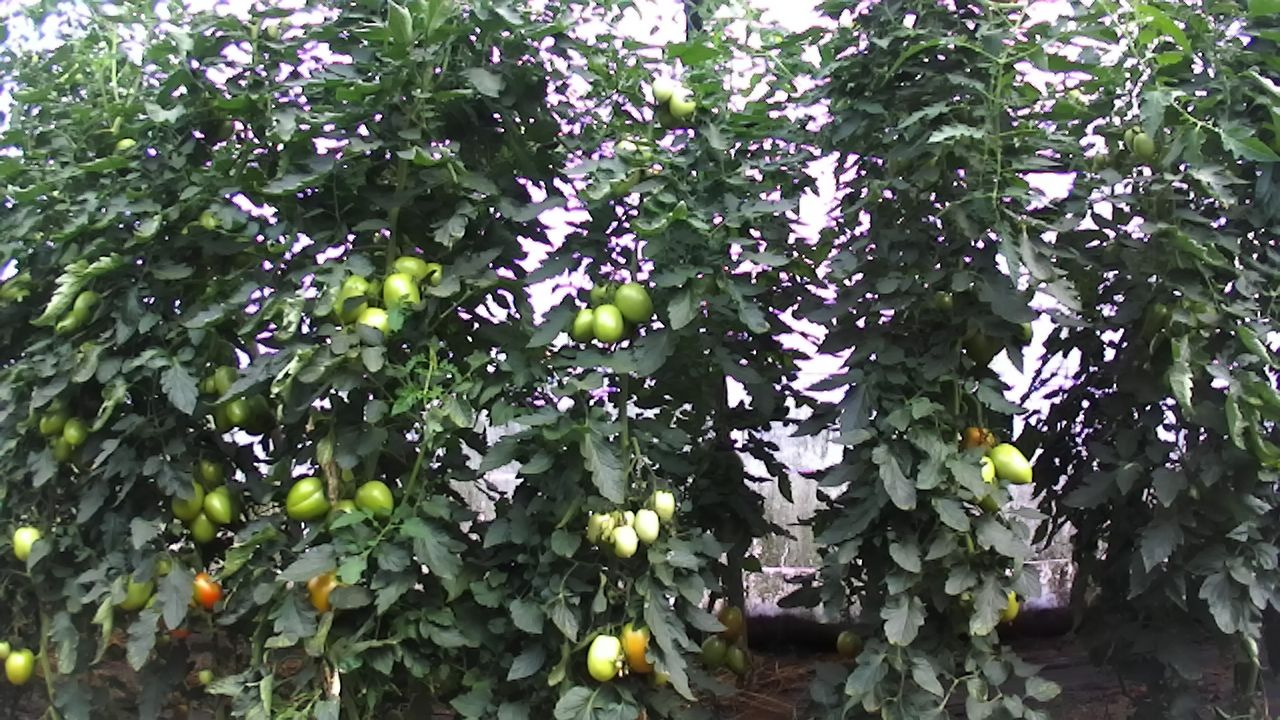tomato: (616, 615, 657, 675), (284, 474, 333, 524), (985, 440, 1034, 485), (379, 267, 424, 315), (611, 279, 655, 326), (166, 475, 208, 523), (585, 633, 623, 684), (351, 477, 396, 519), (354, 302, 395, 345), (711, 600, 748, 646), (187, 503, 224, 547), (589, 302, 625, 345), (2, 644, 37, 688), (10, 523, 44, 563), (565, 304, 600, 342), (201, 488, 235, 526), (223, 396, 259, 430), (665, 86, 699, 120), (698, 631, 730, 667), (631, 507, 661, 545), (608, 523, 639, 559), (61, 414, 90, 450), (723, 640, 749, 677), (653, 486, 677, 526), (835, 626, 865, 658), (650, 73, 674, 104)
